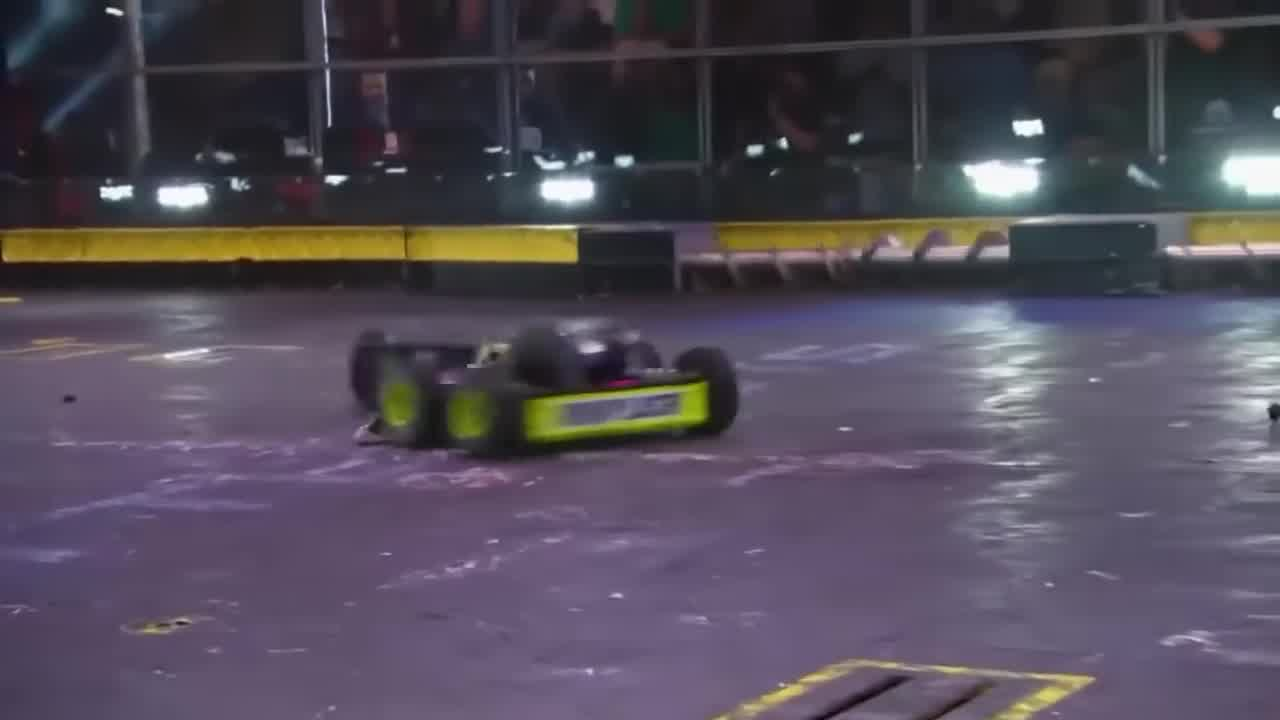combatbot: (347, 321, 745, 461)
